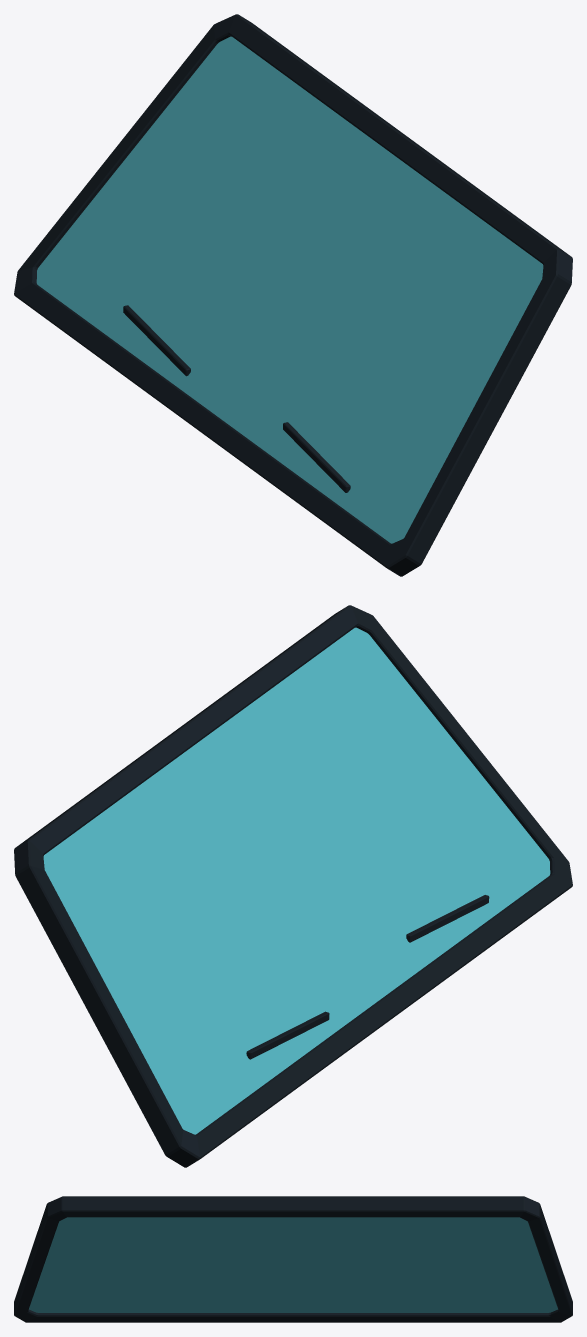
The model's file is QC_Windshield.fbx.
3 views of the same model, one above another, from view 1: azimuth 30°, elevation 25°; view 2: azimuth 150°, elevation 25°; view 3: azimuth 270°, elevation 25° (orthographic). The views are drawn at different scales.
Parts seen in each view (by area): view 1: QC_Windshield; view 2: QC_Windshield; view 3: QC_Windshield.
Part boxes in pixels (left/top/right/bottom): QC_Windshield: left=14, top=14, right=572, bottom=576; QC_Windshield: left=14, top=605, right=572, bottom=1167; QC_Windshield: left=14, top=1196, right=572, bottom=1322.
Bounding box in the file's own units: 0.4824 × 0.5747 × 1.54.
Materials: 2 (2 with a texture image).
